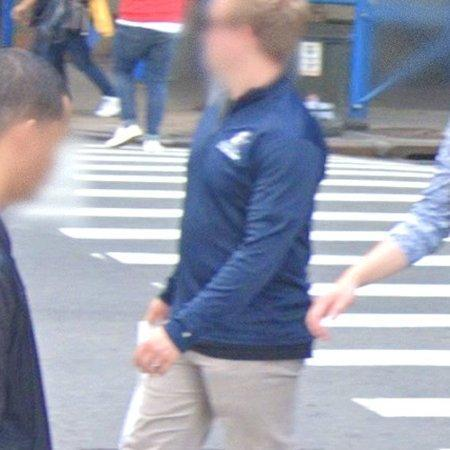crosswalks: (307, 239, 450, 437), (32, 144, 188, 289), (311, 155, 435, 294)
